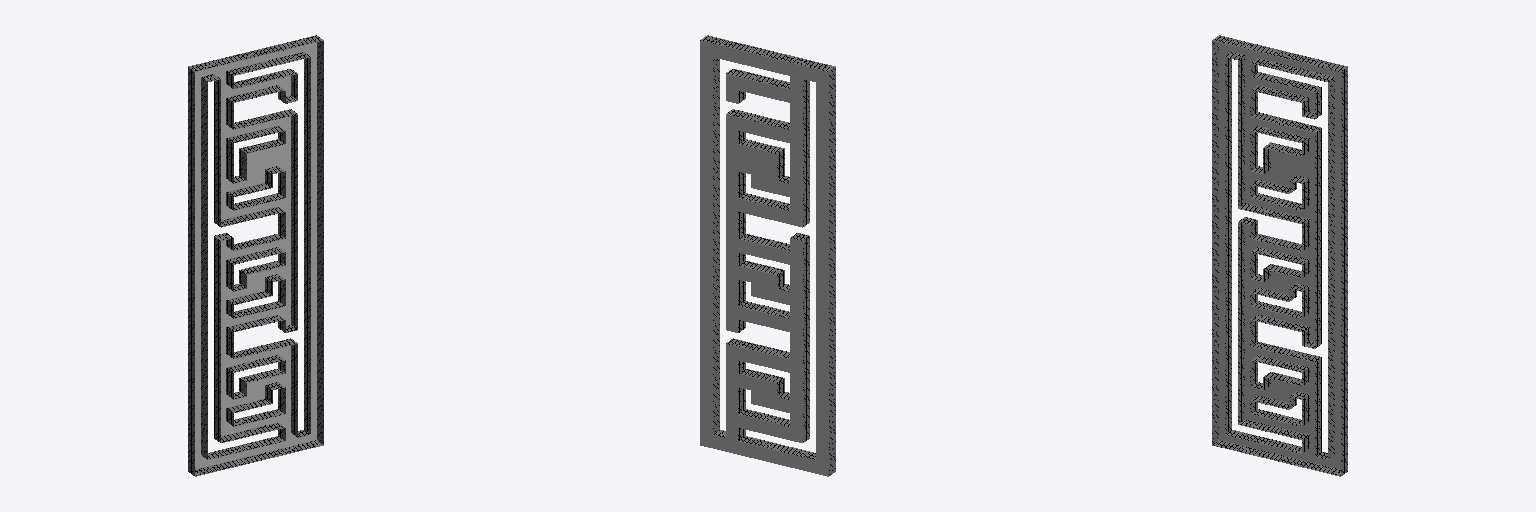
3 views of the same model, side by side, from view 1: azimuth 30°, elevation 25°; view 2: azimuth 150°, elevation 25°; view 3: azimuth 330°, elevation 25° (orthographic).
Size of the model in its own units: 10 by 30 by 1.
Materials: 3 (1 with a texture image).